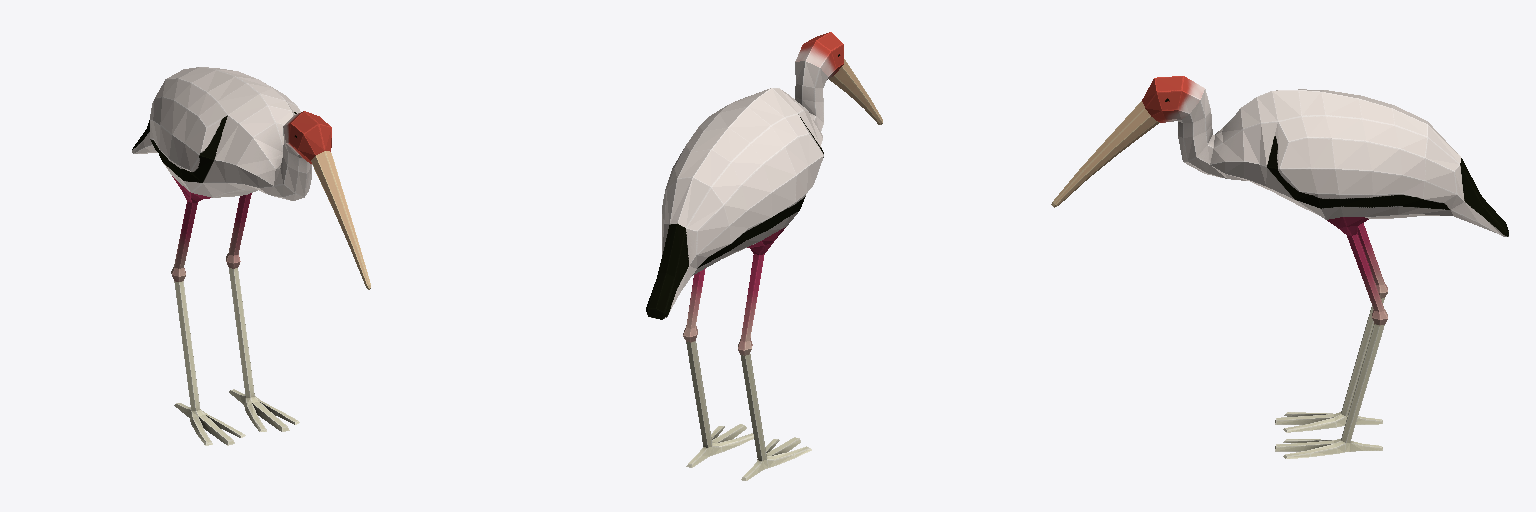
3 views of the same model, side by side, from view 1: azimuth 30°, elevation 25°; view 2: azimuth 150°, elevation 25°; view 3: azimuth 270°, elevation 25° (orthographic).
Parts seen in each view (by area): view 1: YellowBilledStork_mesh; view 2: YellowBilledStork_mesh; view 3: YellowBilledStork_mesh.
Boxes of the visible parts, x1=… form: YellowBilledStork_mesh: x1=132, y1=67, x2=370, y2=445; YellowBilledStork_mesh: x1=646, y1=32, x2=882, y2=480; YellowBilledStork_mesh: x1=1051, y1=76, x2=1508, y2=458.
Bounding box in the file's own units: 2.89 × 8.68 × 9.97.
Materials: 1 (1 with a texture image).